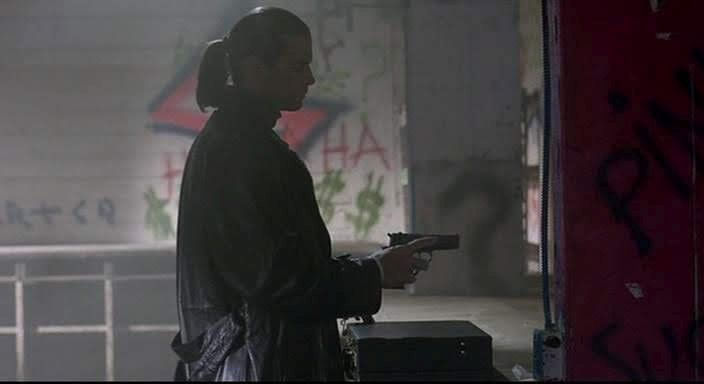gun: (372, 218, 468, 290)
